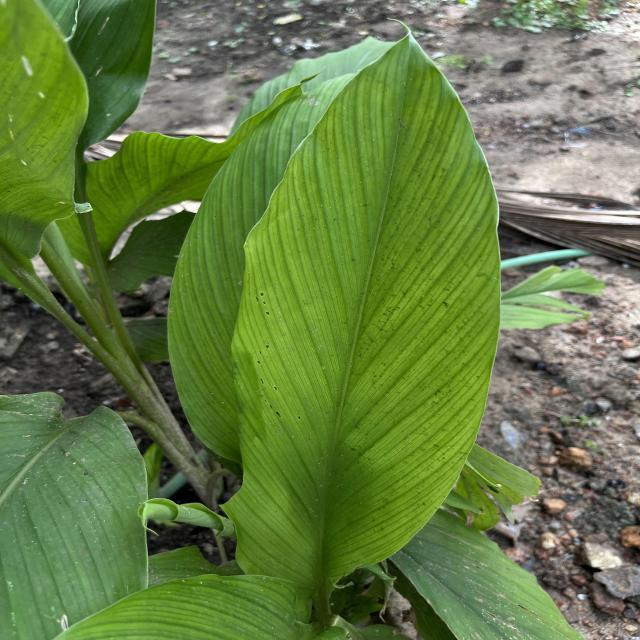Curcuma longa: (214, 5, 509, 603)
